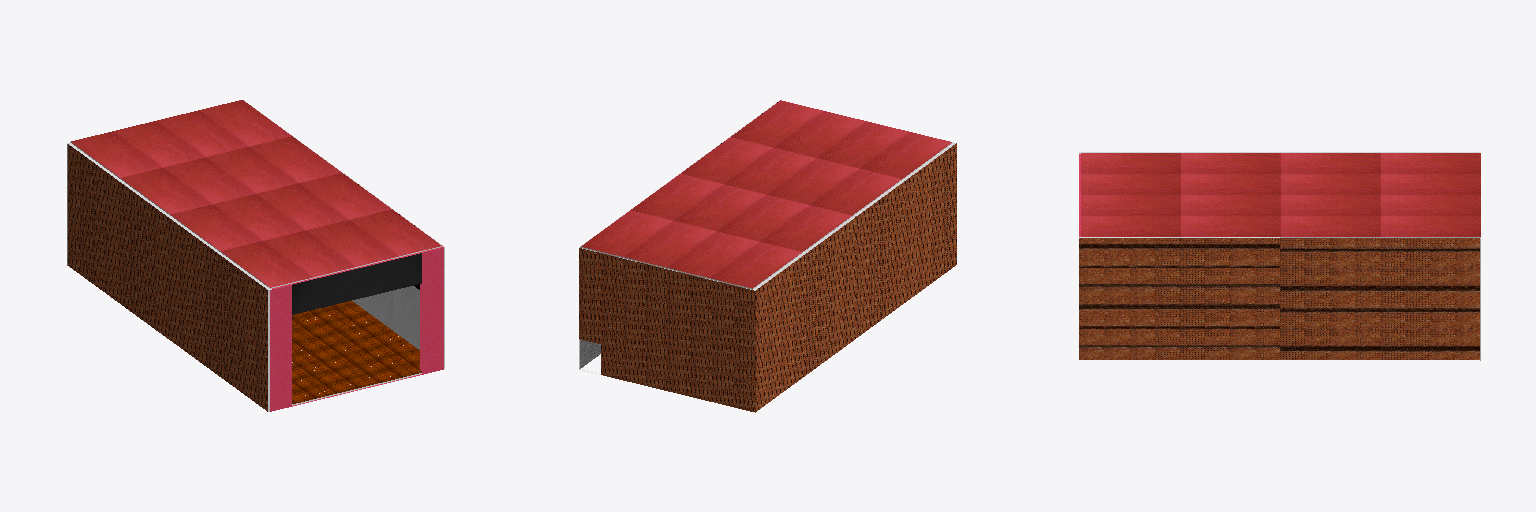
3 views of the same model, side by side, from view 1: azimuth 30°, elevation 25°; view 2: azimuth 150°, elevation 25°; view 3: azimuth 270°, elevation 25° (orthographic).
Parts seen in each view (by area): view 1: polySurface6; view 2: polySurface6; view 3: polySurface6.
Boxes of the visible parts, box(x1,y1,x2,y2) form: polySurface6: box(67, 100, 444, 411); polySurface6: box(579, 100, 956, 412); polySurface6: box(1079, 152, 1480, 360).
Size of the model in its own units: 24.12 by 16.1 by 47.64.
20 materials, 10 textured.